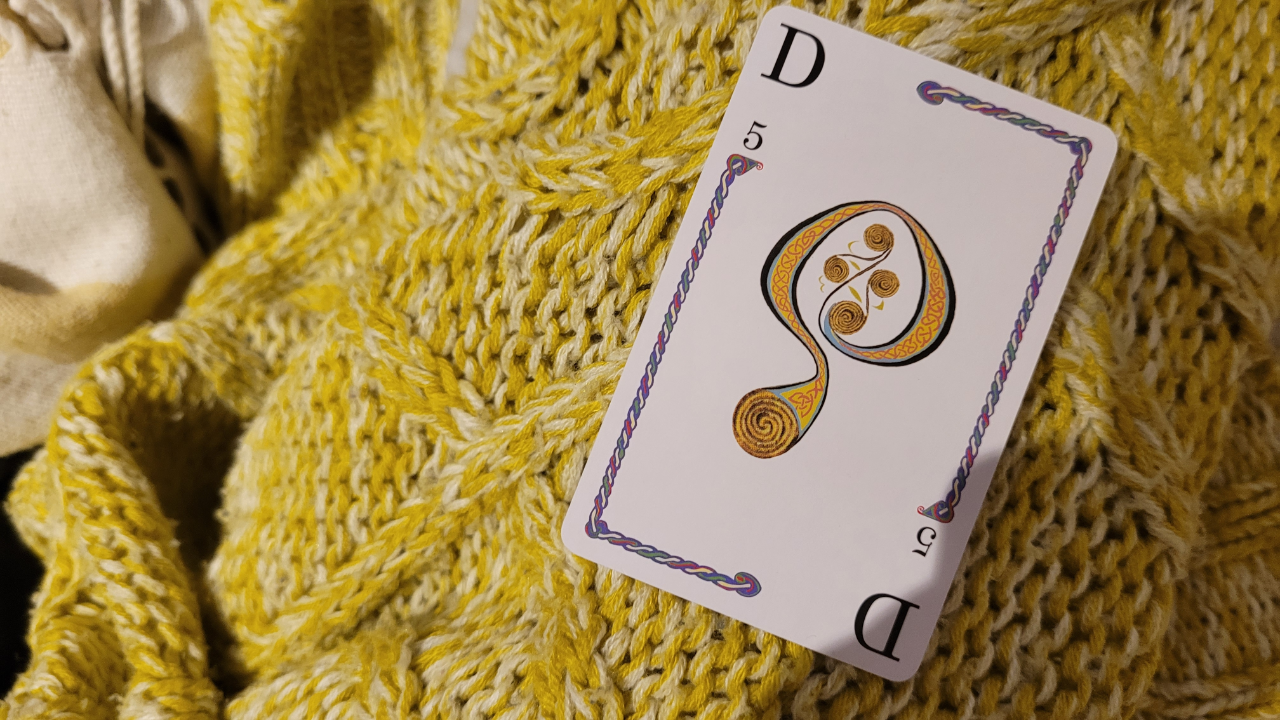quiddler_card: (553, 6, 1122, 688)
